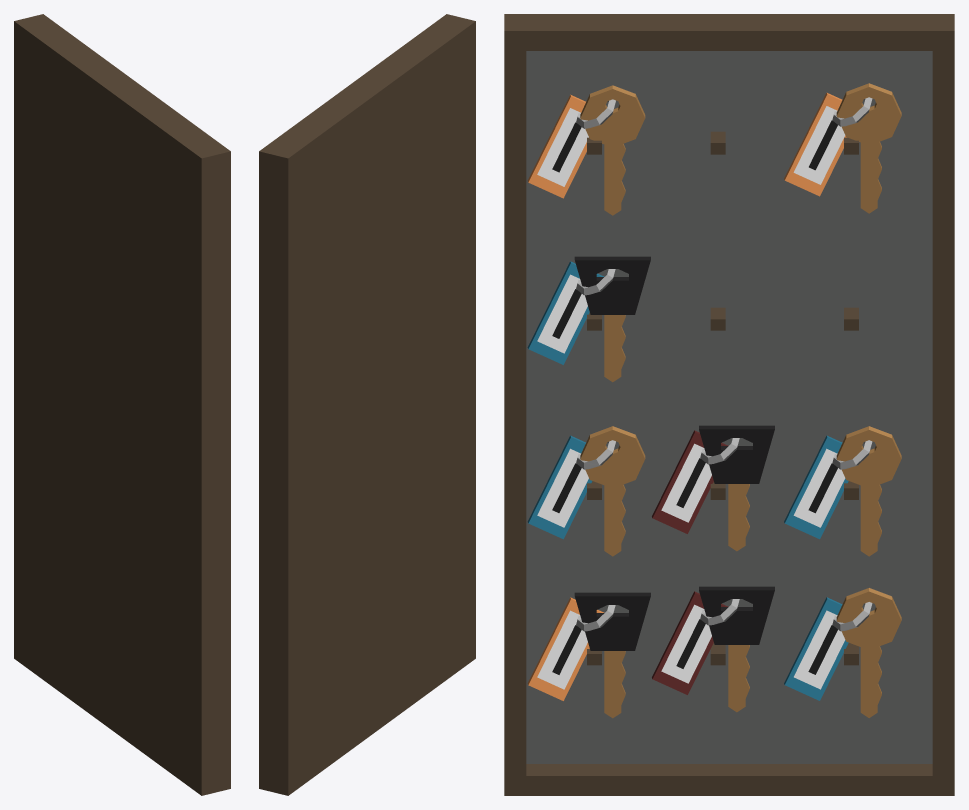
The model's file is SM_receptionBoard_02.glb.
3 views of the same model, side by side, from view 1: azimuth 30°, elevation 25°; view 2: azimuth 150°, elevation 25°; view 3: azimuth 270°, elevation 25° (orthographic). The views are drawn at different scales.
Parts seen in each view (by area): view 1: SM_receptionBoard_02; view 2: SM_receptionBoard_02; view 3: SM_receptionBoard_02.
Part boxes in pixels (x1=…): SM_receptionBoard_02: x1=14, y1=14, x2=230, y2=795; SM_receptionBoard_02: x1=259, y1=14, x2=475, y2=795; SM_receptionBoard_02: x1=504, y1=14, x2=954, y2=795.
Bounding box in the file's own units: 0.0859 × 1.48 × 0.7881.
1 material, 1 textured.
